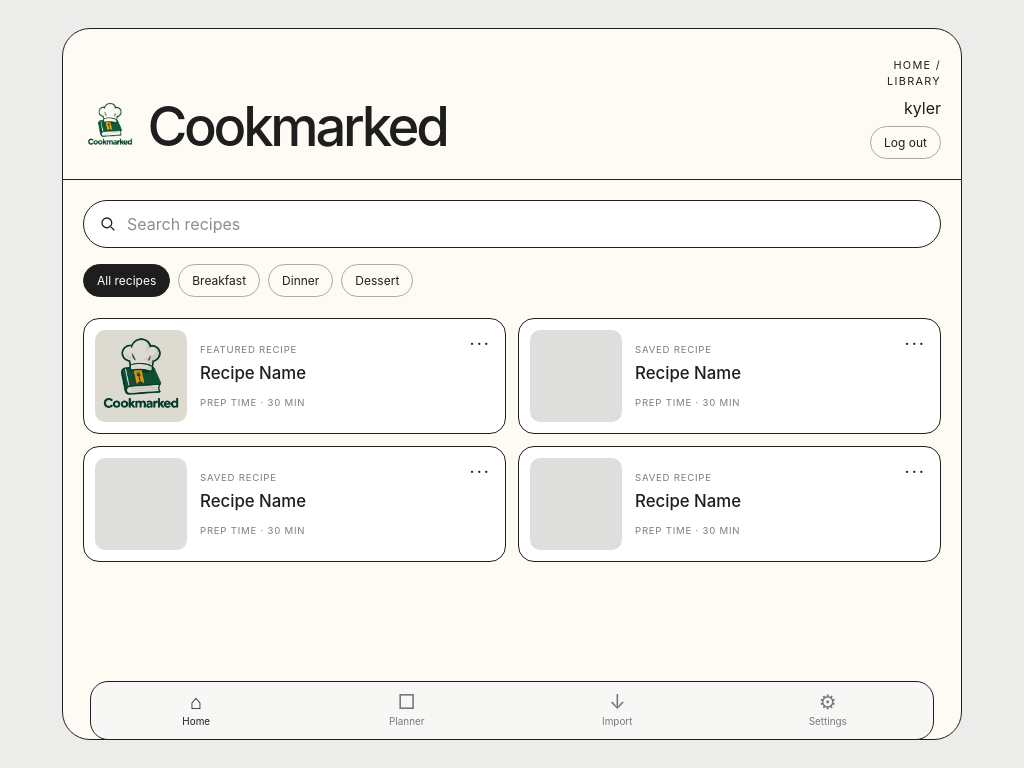
it: Cookmarked page shells › returns to the home library from Planner
This screenshot has width=1024, height=768.
expect the search field is shown: met, box x1=127 y1=201 x2=925 y2=247
Click the button "□ Planner" at (407, 710), box x1=302 y1=682 x2=512 y2=739
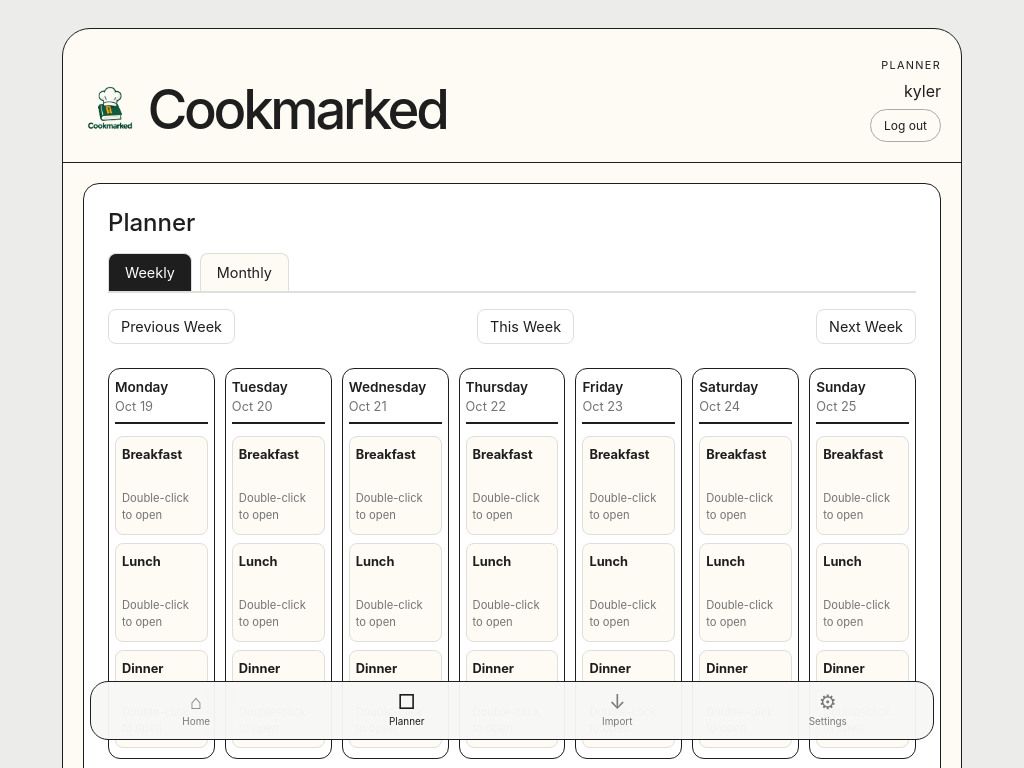
Click the button "⌂ Home" at (196, 710), box x1=91 y1=682 x2=302 y2=739
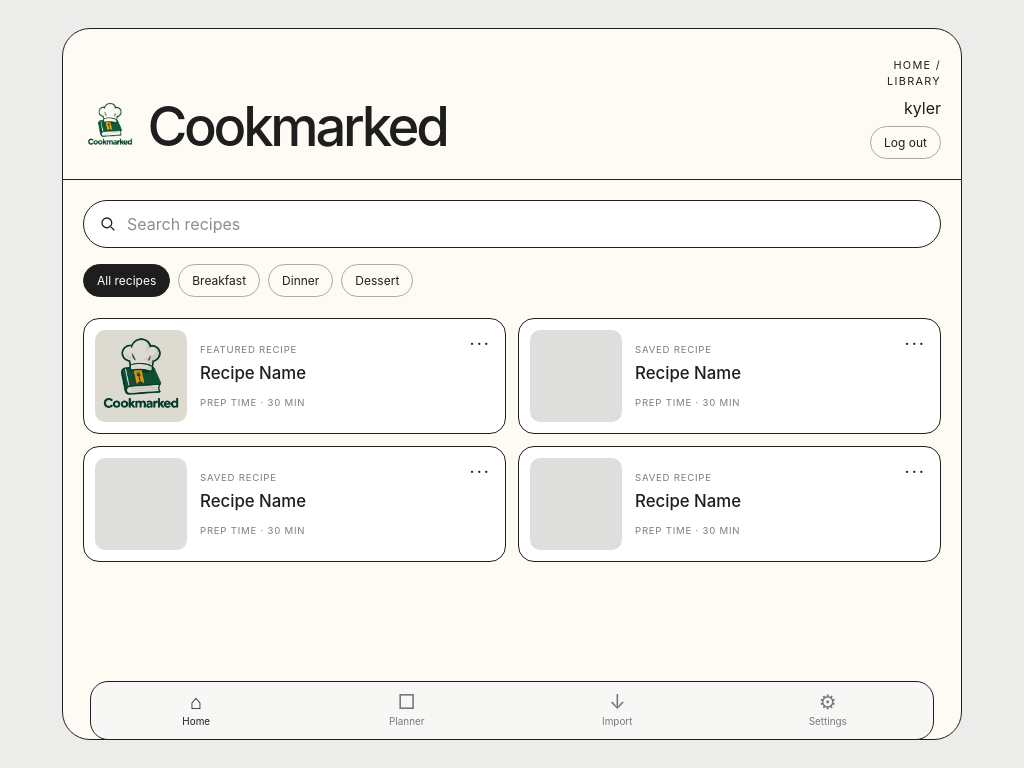
expect the search field labelled "Search recipes" is shown: met, box x1=127 y1=201 x2=925 y2=247
expect the number of headings "Recipe Name" is 4: met, box x1=200 y1=363 x2=306 y2=383; x1=635 y1=363 x2=741 y2=383; x1=200 y1=491 x2=306 y2=511; x1=635 y1=491 x2=741 y2=511
expect the text "Home / Library" is shown: met, box x1=887 y1=58 x2=941 y2=88
